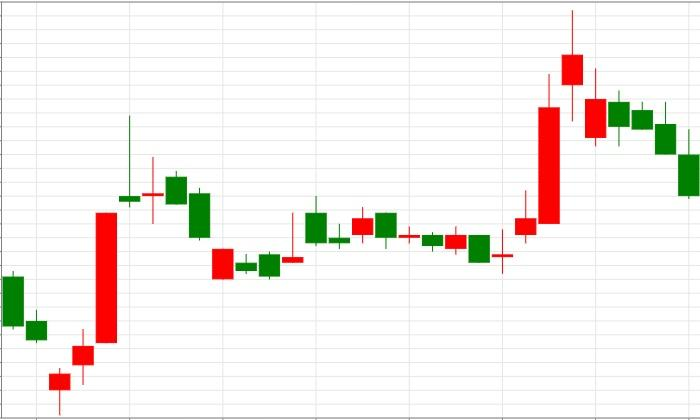three_white_soldiers_rise: (351, 73, 561, 273), (2, 212, 118, 415)
